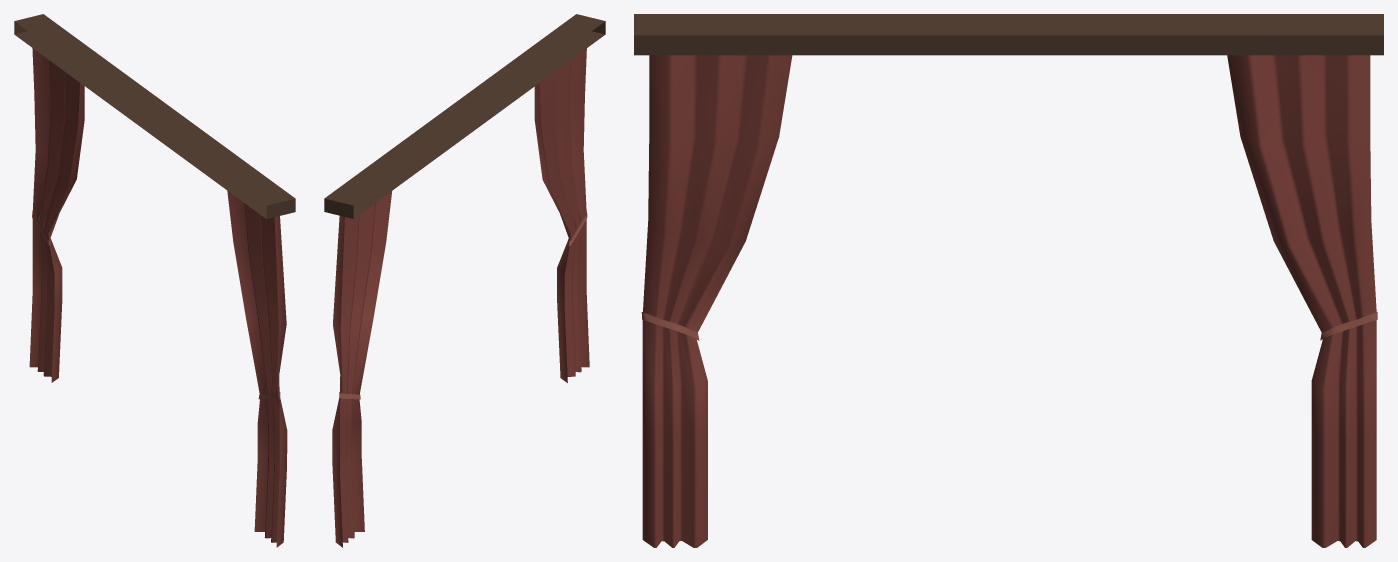
Rendered from S_Curtains2.fbx.
3 views of the same model, side by side, from view 1: azimuth 30°, elevation 25°; view 2: azimuth 150°, elevation 25°; view 3: azimuth 270°, elevation 25° (orthographic). The views are drawn at different scales.
Parts seen in each view (by area): view 1: S_Curtains2; view 2: S_Curtains2; view 3: S_Curtains2.
Part boxes in pixels (x1,y1,x2,y2): S_Curtains2: (14, 14, 295, 547); S_Curtains2: (324, 14, 605, 547); S_Curtains2: (634, 14, 1383, 547).
Bounding box in the file's own units: 24.26 × 267 × 352.
